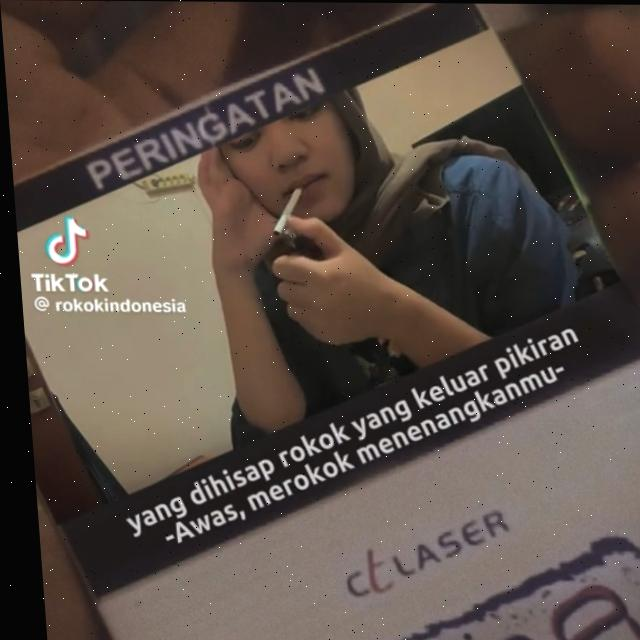cigarette: (265, 186, 303, 237)
